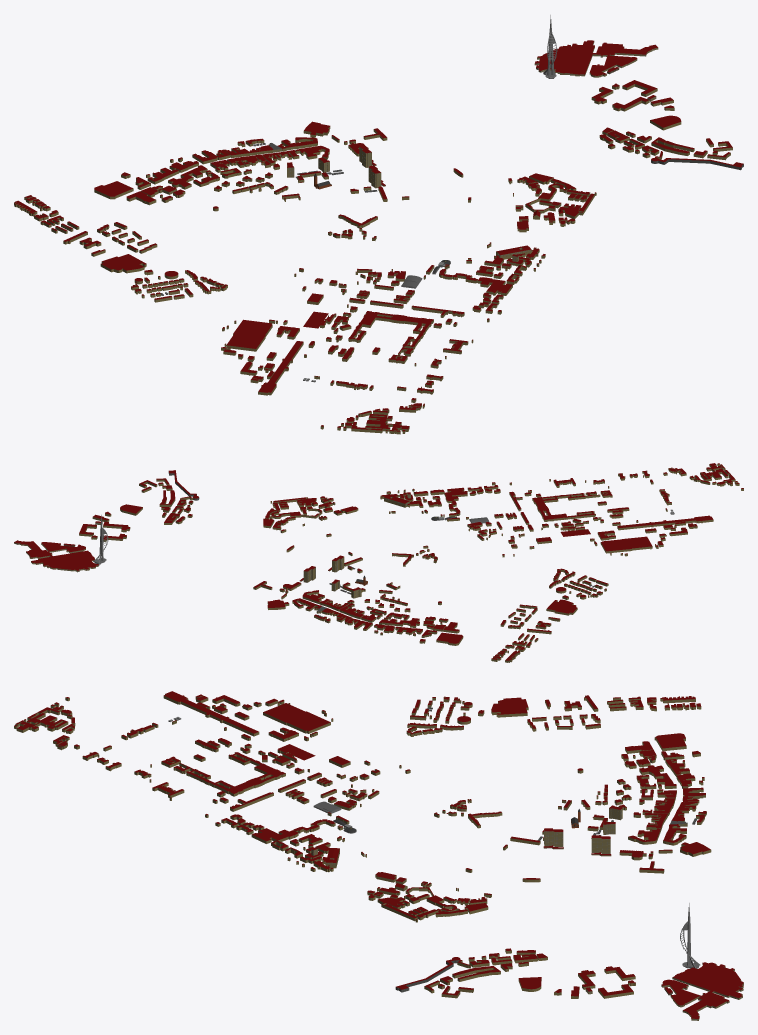
3 renders of one model, top to bottom at view 1: azimuth 30°, elevation 25°; view 2: azimuth 150°, elevation 25°; view 3: azimuth 270°, elevation 25°, orthographic. The views are drawn at different scales.
Parts seen in each view (by area): view 1: Building402, Building Royal Hospital Haslar, Building Ocean Basin; view 2: Building402, Building Royal Hospital Haslar, Building Ocean Basin, Building № 2 Ship Tank, Building Asda; view 3: Building402, Building Royal Hospital Haslar, Building Ocean Basin, Building № 2 Ship Tank, Building Asda, Building2.
Boxes of the visible parts, left/top/right/bottom form: Building402: left=534, top=40, right=658, bottom=77; Building Royal Hospital Haslar: left=348, top=311, right=433, bottom=349; Building Ocean Basin: left=226, top=319, right=272, bottom=351; Building402: left=14, top=540, right=99, bottom=572; Building Royal Hospital Haslar: left=532, top=493, right=595, bottom=521; Building Ocean Basin: left=600, top=536, right=652, bottom=553; Building № 2 Ship Tank: left=617, top=515, right=713, bottom=530; Building Asda: left=546, top=599, right=577, bottom=615; Building402: left=661, top=962, right=743, bottom=1020; Building Royal Hospital Haslar: left=186, top=752, right=285, bottom=796; Building Ocean Basin: left=263, top=703, right=330, bottom=733; Building № 2 Ship Tank: left=163, top=691, right=259, bottom=736; Building Asda: left=491, top=697, right=528, bottom=717; Building2: left=16, top=713, right=68, bottom=732.
Size of the model in its own units: 1871 by 170 by 1766.
